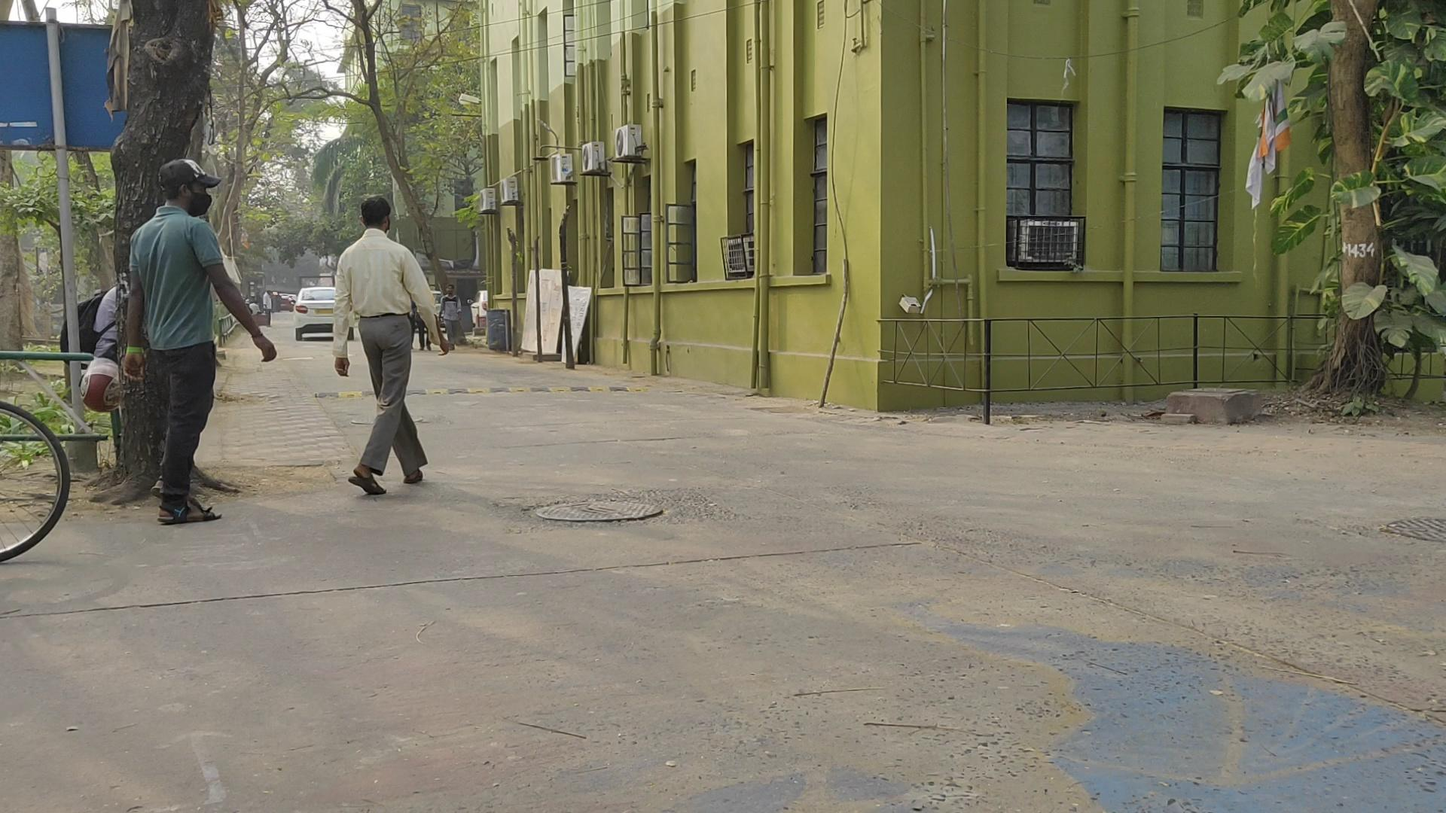car: (292, 285, 355, 343)
